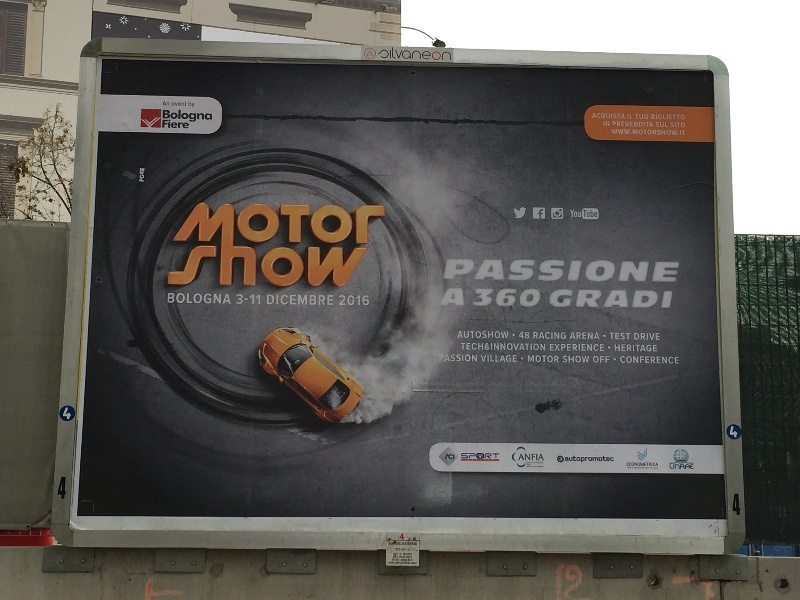text: (177, 240, 192, 288), (193, 240, 208, 288), (209, 240, 224, 288), (225, 240, 240, 288), (241, 240, 256, 288), (257, 240, 272, 288), (273, 240, 288, 288), (289, 240, 304, 288), (305, 240, 320, 288), (321, 240, 336, 288), (337, 240, 352, 288), (353, 240, 368, 288), (209, 203, 224, 244), (225, 203, 240, 244), (241, 203, 256, 244), (257, 203, 272, 244), (273, 203, 288, 244), (289, 203, 304, 244), (305, 203, 320, 244), (321, 203, 336, 244), (337, 203, 352, 244), (353, 203, 368, 244), (369, 203, 384, 244), (197, 203, 208, 244), (401, 541, 417, 566), (449, 258, 464, 283), (465, 258, 480, 283), (481, 258, 496, 283), (497, 258, 512, 283), (513, 258, 528, 283), (529, 258, 544, 283), (545, 258, 560, 283), (561, 258, 576, 283), (577, 258, 592, 283), (593, 258, 608, 283), (609, 258, 624, 283), (625, 258, 640, 283), (641, 258, 656, 283), (657, 258, 672, 283), (481, 289, 496, 309), (497, 289, 512, 309), (513, 289, 528, 309), (388, 541, 400, 566), (657, 290, 673, 308), (449, 288, 464, 307), (529, 289, 543, 309), (561, 290, 576, 308), (577, 290, 592, 308), (593, 290, 608, 308), (609, 290, 624, 308), (625, 290, 640, 308), (641, 290, 656, 308), (171, 240, 176, 288), (385, 203, 390, 244), (177, 110, 192, 122), (193, 110, 208, 122), (353, 295, 369, 306), (673, 258, 680, 283), (177, 293, 192, 304), (193, 293, 208, 304), (209, 293, 224, 304), (241, 294, 256, 305), (163, 110, 176, 122), (273, 295, 288, 305), (289, 295, 304, 305), (339, 295, 352, 306), (449, 354, 464, 363), (321, 295, 334, 305), (529, 453, 545, 461), (177, 120, 191, 129), (553, 290, 560, 308), (577, 455, 592, 463), (593, 455, 608, 463), (465, 331, 480, 339), (481, 331, 496, 339), (545, 332, 560, 340), (625, 356, 640, 364), (641, 356, 656, 364), (657, 356, 672, 364), (593, 356, 608, 364), (561, 344, 576, 352), (577, 344, 592, 352), (529, 355, 544, 363), (497, 343, 512, 351), (513, 343, 528, 351), (529, 343, 544, 351), (465, 343, 480, 351), (481, 355, 496, 363), (497, 355, 512, 363), (163, 120, 176, 129), (545, 355, 559, 363), (465, 354, 477, 363), (625, 129, 640, 136), (641, 129, 656, 136), (657, 129, 672, 136), (577, 332, 592, 339), (609, 333, 624, 340), (641, 333, 656, 340), (625, 345, 640, 352), (641, 345, 656, 352), (310, 295, 320, 305), (529, 462, 545, 468), (497, 331, 509, 339), (673, 129, 686, 136), (563, 356, 576, 363), (577, 356, 590, 363), (465, 453, 480, 459), (481, 453, 496, 459), (673, 464, 688, 470), (593, 113, 608, 119), (609, 113, 624, 119), (625, 121, 640, 127), (657, 114, 672, 120), (168, 293, 176, 304), (565, 455, 576, 463), (533, 332, 544, 340), (593, 344, 604, 352), (612, 129, 624, 136), (476, 289, 480, 309), (550, 344, 560, 352), (486, 343, 496, 351), (641, 121, 654, 127), (627, 114, 640, 120), (673, 122, 685, 128), (673, 114, 685, 120), (583, 210, 592, 218), (440, 354, 448, 363), (225, 293, 231, 304), (613, 121, 624, 127), (657, 122, 668, 128), (537, 210, 544, 219), (615, 345, 624, 352), (164, 101, 176, 106), (641, 463, 656, 467), (521, 453, 528, 461), (570, 209, 576, 218), (140, 169, 144, 182), (627, 463, 640, 467), (177, 102, 187, 107), (267, 295, 272, 305), (593, 332, 600, 339), (209, 110, 213, 122), (641, 114, 649, 120), (673, 356, 679, 364), (577, 209, 582, 218), (257, 294, 261, 305), (522, 332, 528, 339), (625, 333, 631, 340), (634, 333, 640, 340), (609, 455, 614, 463), (593, 210, 598, 218), (561, 332, 566, 340), (491, 343, 496, 351), (689, 464, 695, 470), (571, 332, 576, 339), (237, 294, 240, 305), (460, 331, 464, 339), (620, 356, 624, 364), (513, 355, 517, 363), (641, 467, 656, 469), (603, 121, 608, 127), (651, 114, 656, 120), (635, 114, 640, 120), (401, 534, 405, 541), (627, 467, 640, 469), (171, 102, 176, 107), (447, 258, 448, 283), (497, 453, 501, 459), (461, 343, 464, 351), (481, 343, 484, 351), (189, 101, 192, 108), (193, 101, 196, 108), (657, 333, 660, 340), (305, 295, 307, 305), (447, 288, 448, 307), (461, 453, 464, 459), (526, 462, 528, 468), (670, 464, 672, 470), (657, 463, 659, 467), (609, 356, 610, 364), (545, 343, 546, 351), (529, 332, 530, 339), (657, 345, 658, 352), (625, 113, 626, 119), (609, 121, 610, 127), (671, 122, 672, 128), (657, 467, 659, 469)
